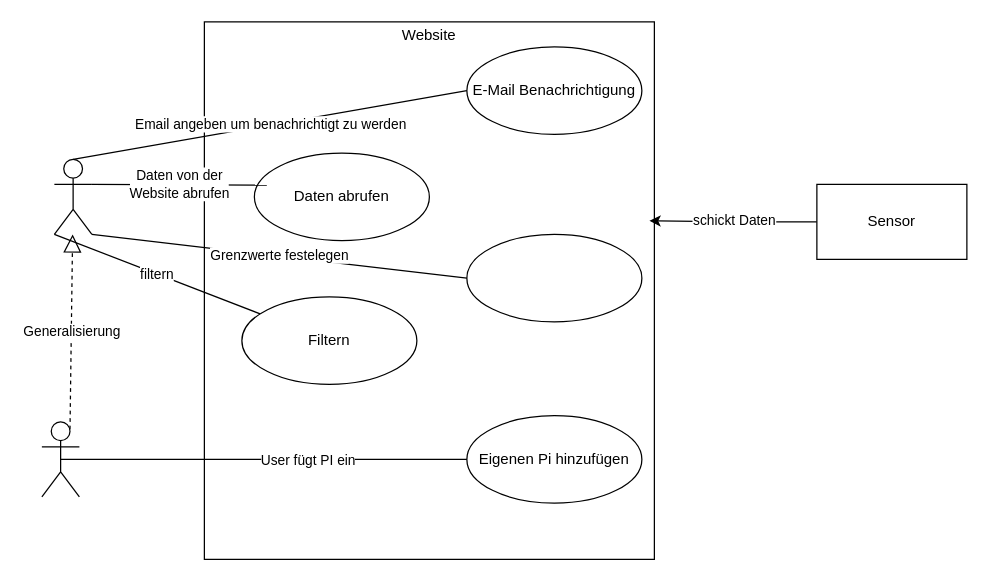
The diagram is 989 pixels wide and 581 high, and some of its shapes have lost their labels. Each missing label, with the centre of its shape:
"Benutzer" goes at (x=72, y=196).
"Grenzwerte" goes at (x=554, y=277).
"SensorHost" goes at (x=60, y=459).
